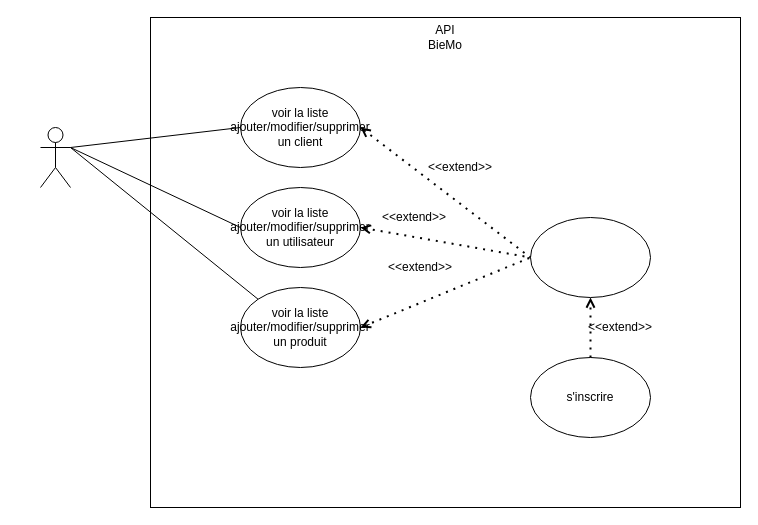
This 758x525 diagram has some shape labels left out. Here are the shapes that lost their labels. From the top down, the box of each, then its label:
(40, 126, 70, 188): Administrateur
(530, 216, 650, 298): s'authentifier
